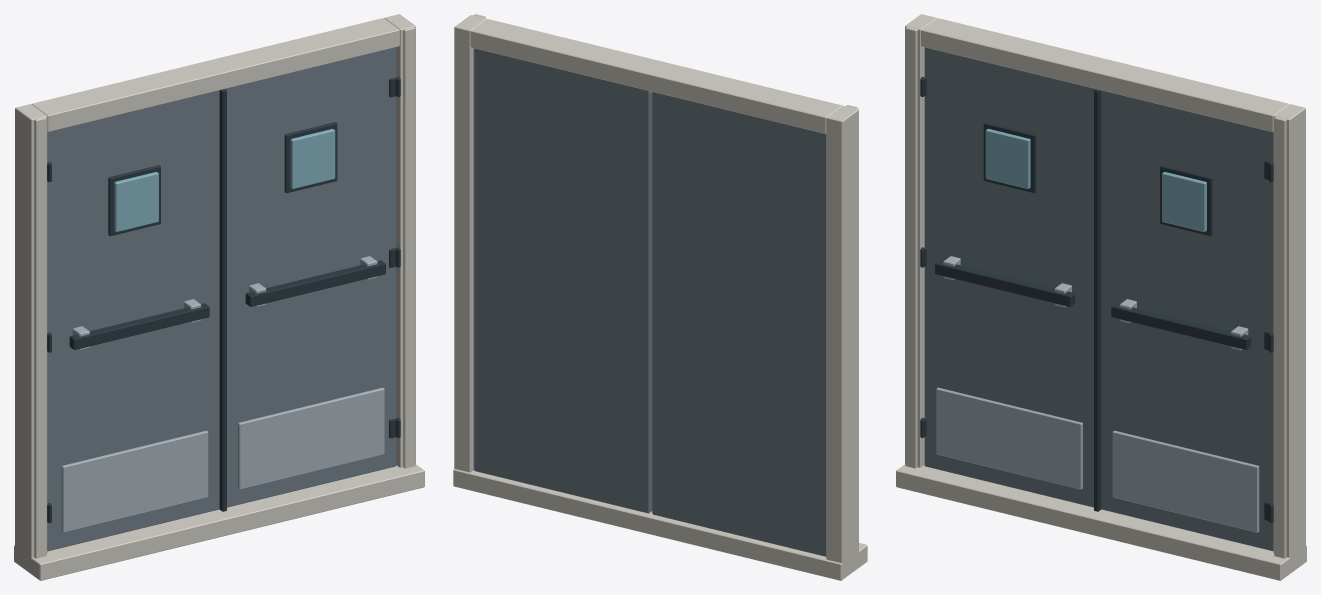
File: b12_double_steel_service_door.glb
3 views of the same model, side by side, from view 1: azimuth 30°, elevation 25°; view 2: azimuth 150°, elevation 25°; view 3: azimuth 330°, elevation 25° (orthographic).
Visible parts, largest first — view 1: b12_double_steel_service_door; view 2: b12_double_steel_service_door; view 3: b12_double_steel_service_door.
Boxes of the visible parts, box(x1,y1,x2,y2) form: b12_double_steel_service_door: box(14, 14, 424, 580); b12_double_steel_service_door: box(453, 14, 867, 580); b12_double_steel_service_door: box(896, 14, 1306, 580).
Size of the model in its own units: 2.01 by 2.27 by 0.24.
